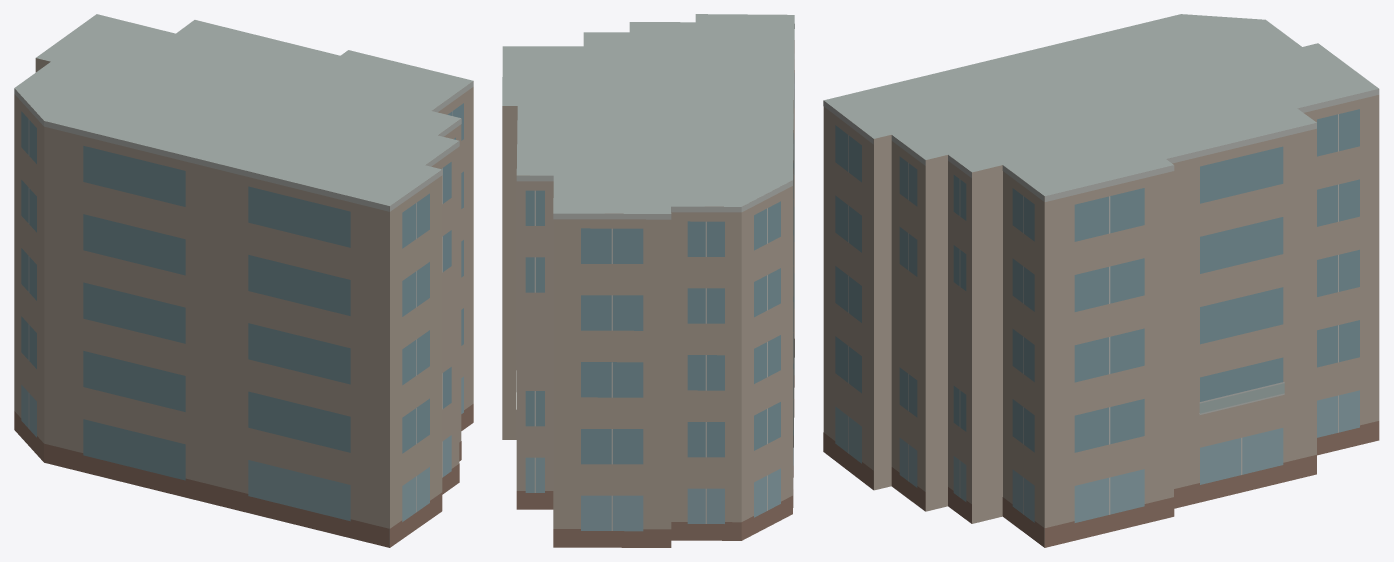
The model's file is survey-upis-32956306.glb.
The picture shows the model from 3 angles, left to right: view 1: azimuth 30°, elevation 25°; view 2: azimuth 150°, elevation 25°; view 3: azimuth 270°, elevation 25°; orthographic projection. The views are drawn at different scales.
Parts seen in each view (by area): view 1: survey-upis-32956306.tmp; view 2: survey-upis-32956306.tmp; view 3: survey-upis-32956306.tmp.
Part boxes in pixels (<box>): survey-upis-32956306.tmp: <box>14,14,473,547</box>; survey-upis-32956306.tmp: <box>502,14,794,547</box>; survey-upis-32956306.tmp: <box>823,14,1379,547</box>.
Bounding box in the file's own units: 16.14 × 14.5 × 20.79.
